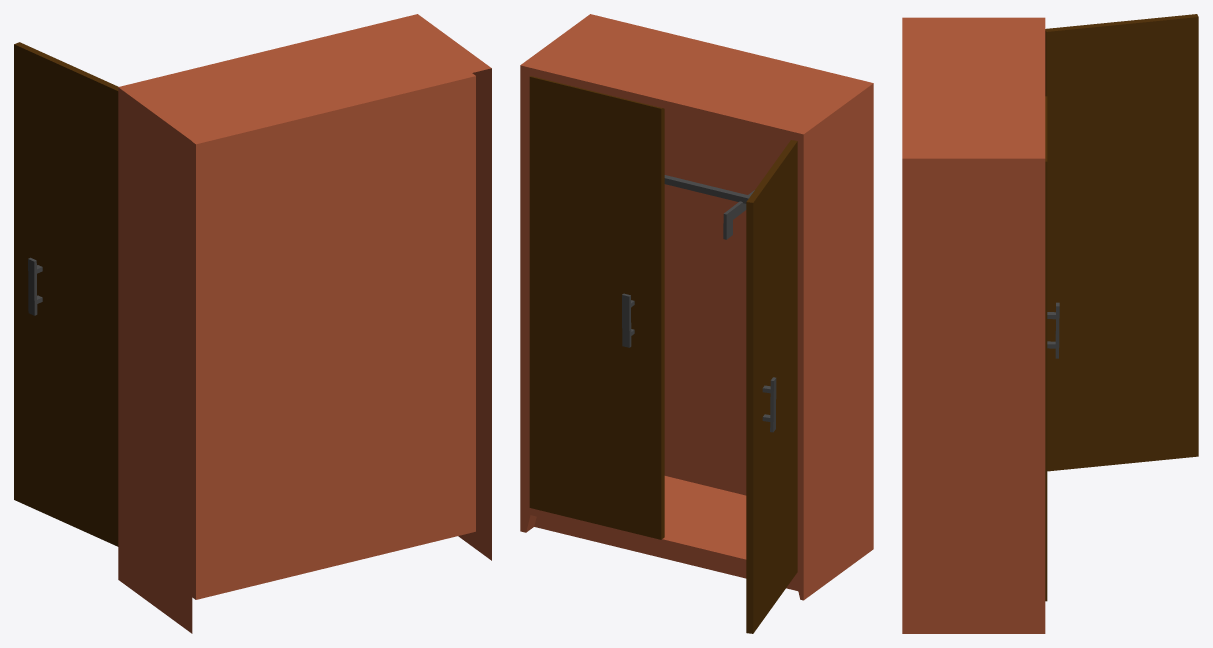
Rendered from interactible_wardrobe_noclothes.fbx.
3 renders of one model, left to right at view 1: azimuth 30°, elevation 25°; view 2: azimuth 150°, elevation 25°; view 3: azimuth 270°, elevation 25°, orthographic. The views are drawn at different scales.
Parts seen in each view (by area): view 1: interactible_wardrobe; view 2: interactible_wardrobe; view 3: interactible_wardrobe.
Part boxes in pixels (bbox=[...]): interactible_wardrobe: bbox=[14, 14, 491, 633]; interactible_wardrobe: bbox=[520, 14, 873, 633]; interactible_wardrobe: bbox=[902, 14, 1198, 633].
Size of the model in its own units: 3.07 by 4.4 by 2.49.
